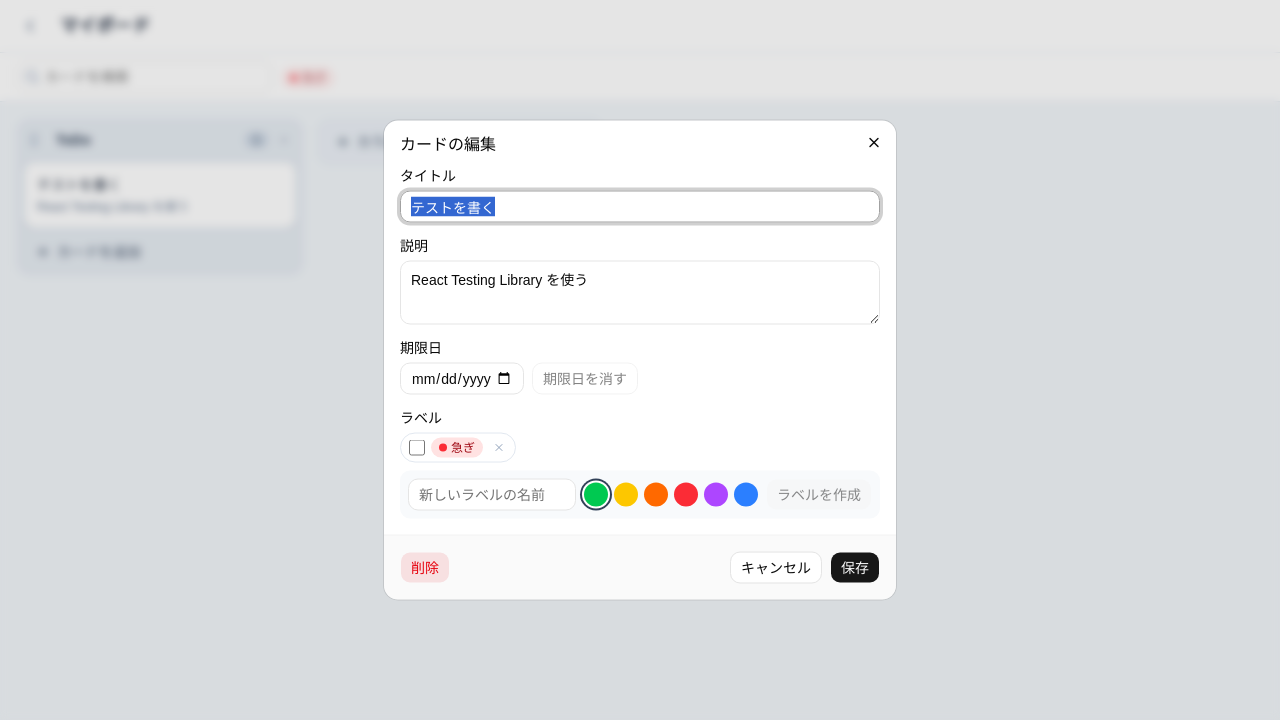
カード詳細 › 削除すると、確認したあとで閉じてボードから消える
Expected: the dialog "カードの編集" is shown, left=384, top=120, right=896, bottom=600
Click the button "削除" at point(425, 568), box left=400, top=552, right=450, bottom=584
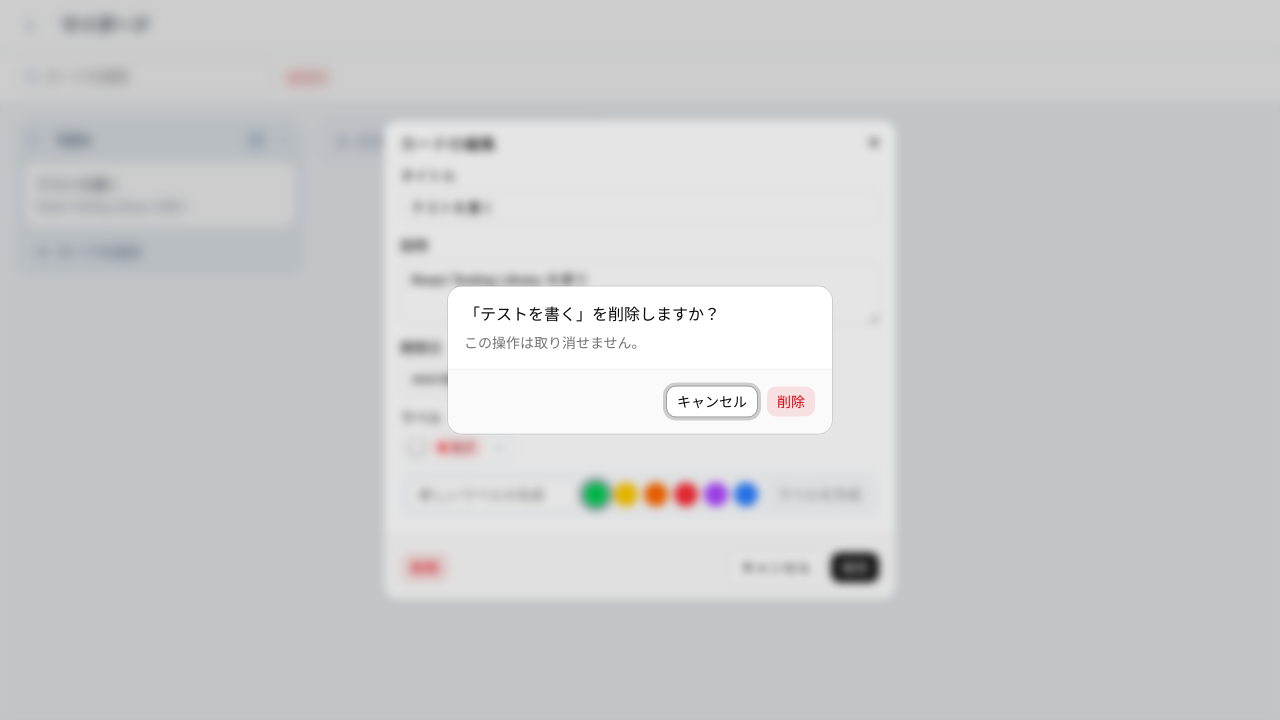
Click the button "削除" at point(791, 402), box left=766, top=386, right=816, bottom=418
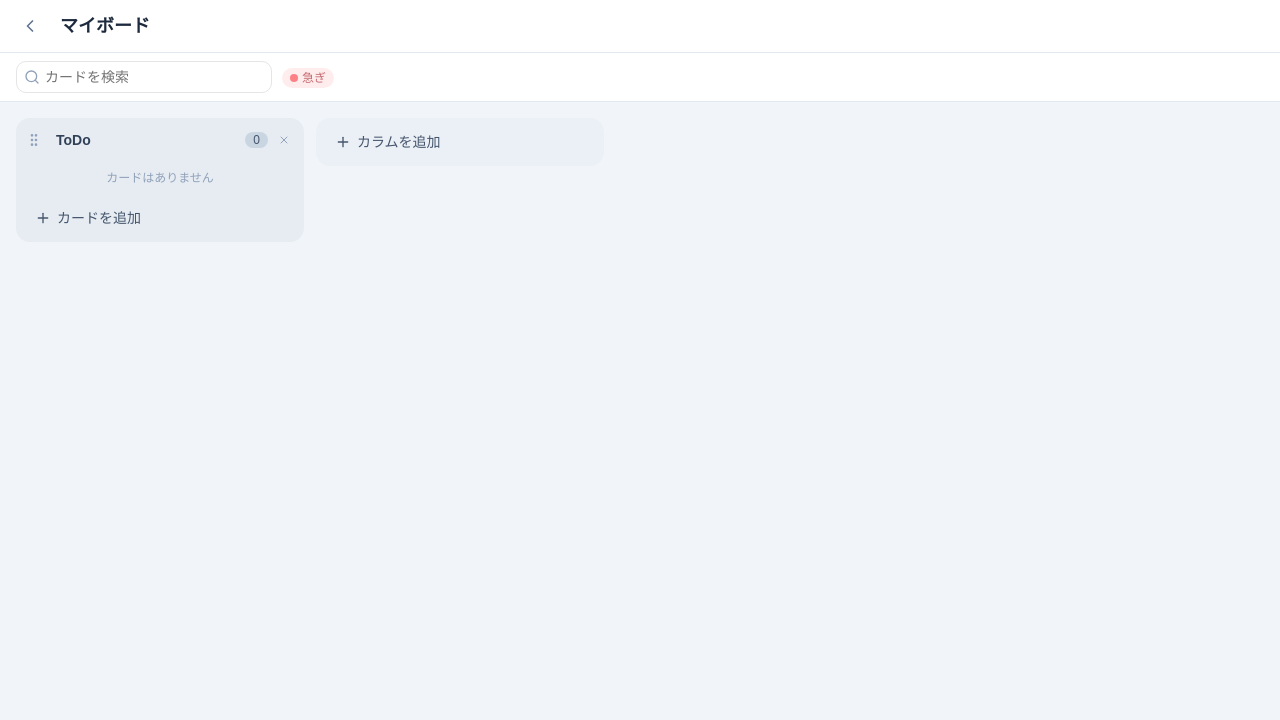
Result: the dialog is gone
Result: the button "カード「テストを書く」" is gone
